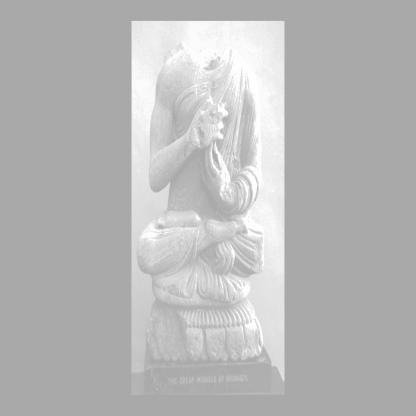buddha-sitting: (136, 45, 264, 361)
